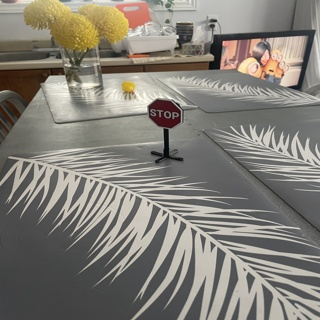sign_stop: (147, 98, 181, 127)
